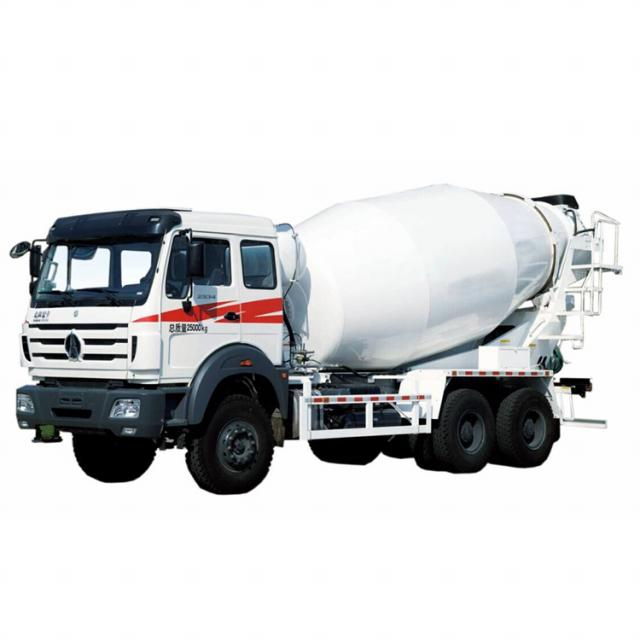Mixer Truck: (10, 182, 622, 496)
